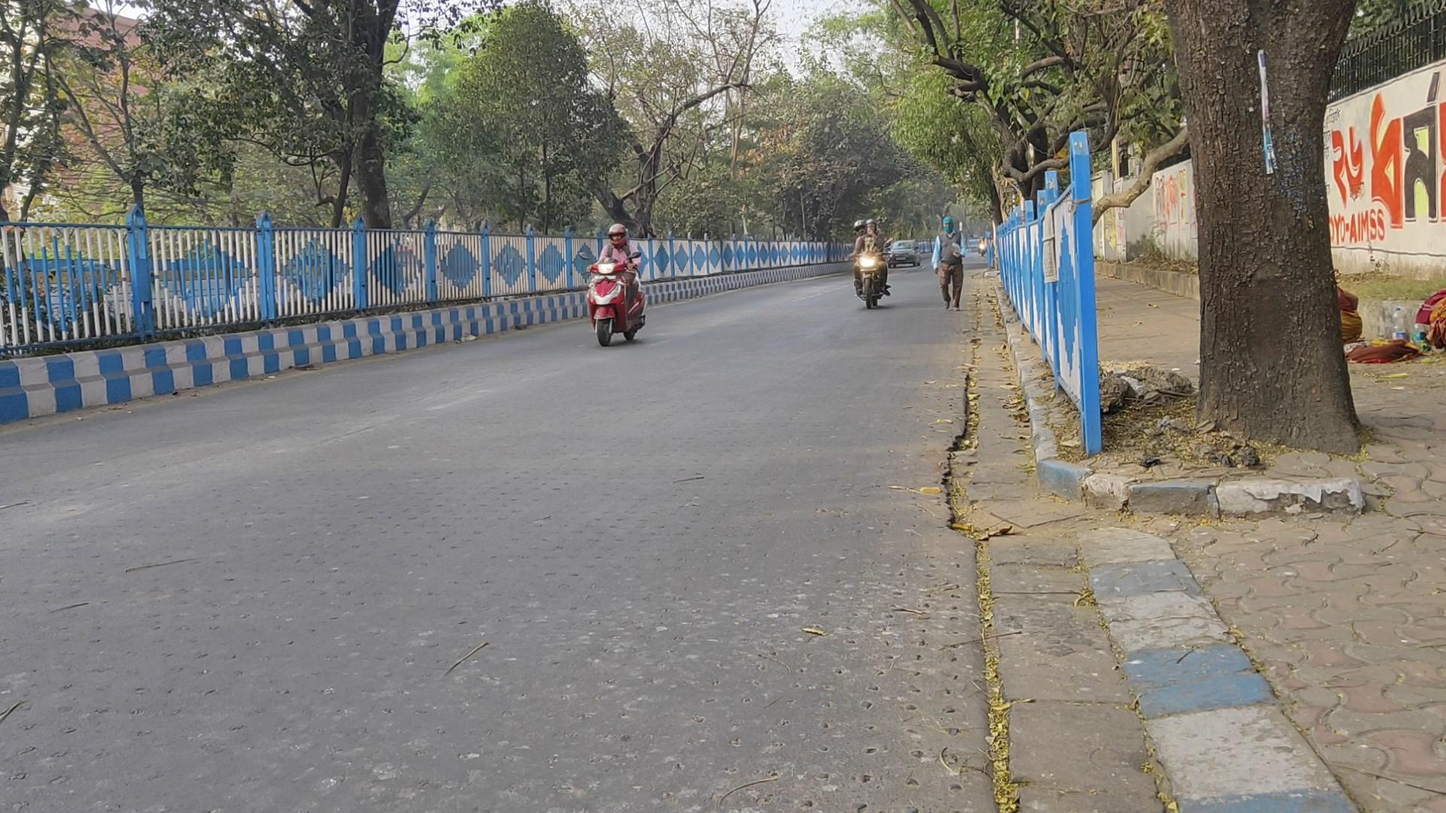bike: (582, 222, 648, 347), (850, 216, 892, 309)
car: (887, 239, 923, 269)
